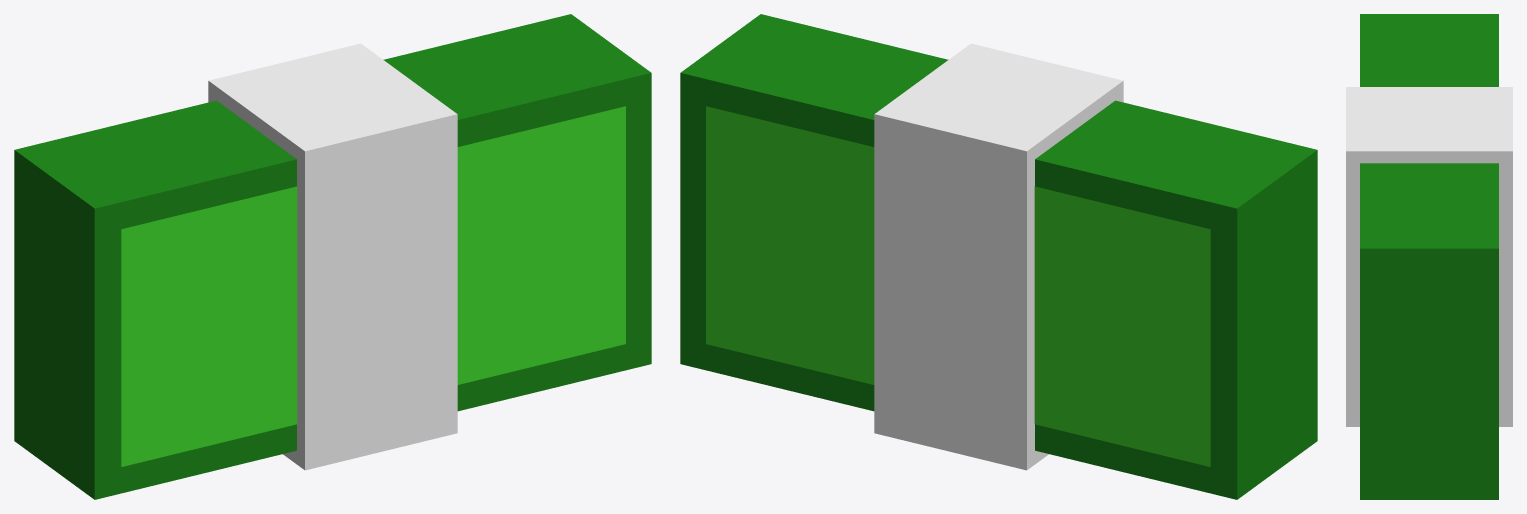
File: Money.fbx
3 views of the same model, side by side, from view 1: azimuth 30°, elevation 25°; view 2: azimuth 150°, elevation 25°; view 3: azimuth 270°, elevation 25° (orthographic). The views are drawn at different scales.
Visible parts, largest first — view 1: Cube.054; view 2: Cube.054; view 3: Cube.054.
Part boxes in pixels (<box>): Cube.054: <box>14,14,651,499</box>; Cube.054: <box>680,14,1317,499</box>; Cube.054: <box>1346,14,1512,499</box>.
Bounding box in the file's own units: 48 × 26.29 × 14.42.
